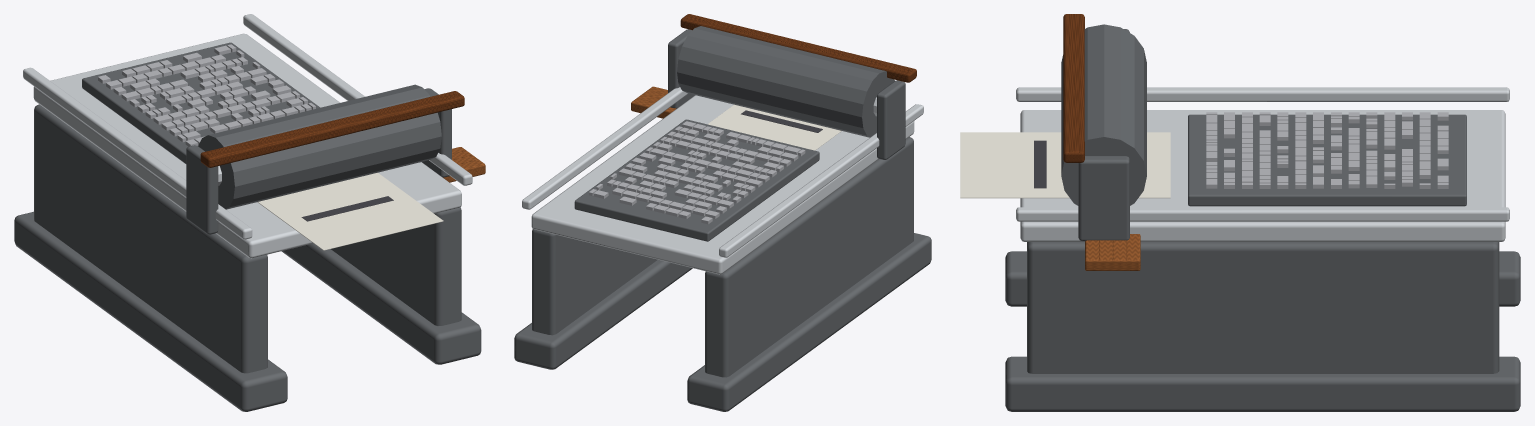
File: proofing-press.glb
3 renders of one model, left to right at view 1: azimuth 30°, elevation 25°; view 2: azimuth 150°, elevation 25°; view 3: azimuth 270°, elevation 25°, orthographic. The views are drawn at different scales.
Visible parts, largest first — view 1: proofing-press, cylinder-proof/iron, cylinder-proof/oak; view 2: proofing-press, cylinder-proof/iron, cylinder-proof/oak; view 3: proofing-press, cylinder-proof/iron, cylinder-proof/oak.
Part boxes in pixels (bbox=[...]): proofing-press: bbox=[14, 14, 485, 411]; cylinder-proof/iron: bbox=[186, 84, 451, 234]; cylinder-proof/oak: bbox=[200, 91, 464, 167]; proofing-press: bbox=[514, 86, 931, 411]; cylinder-proof/iron: bbox=[668, 26, 905, 159]; cylinder-proof/oak: bbox=[680, 14, 916, 82]; proofing-press: bbox=[960, 87, 1520, 411]; cylinder-proof/iron: bbox=[1061, 24, 1146, 241]; cylinder-proof/oak: bbox=[1063, 14, 1084, 162].
Size of the model in its own units: 1.72 by 1.38 by 2.61.
7 materials, 2 textured.
